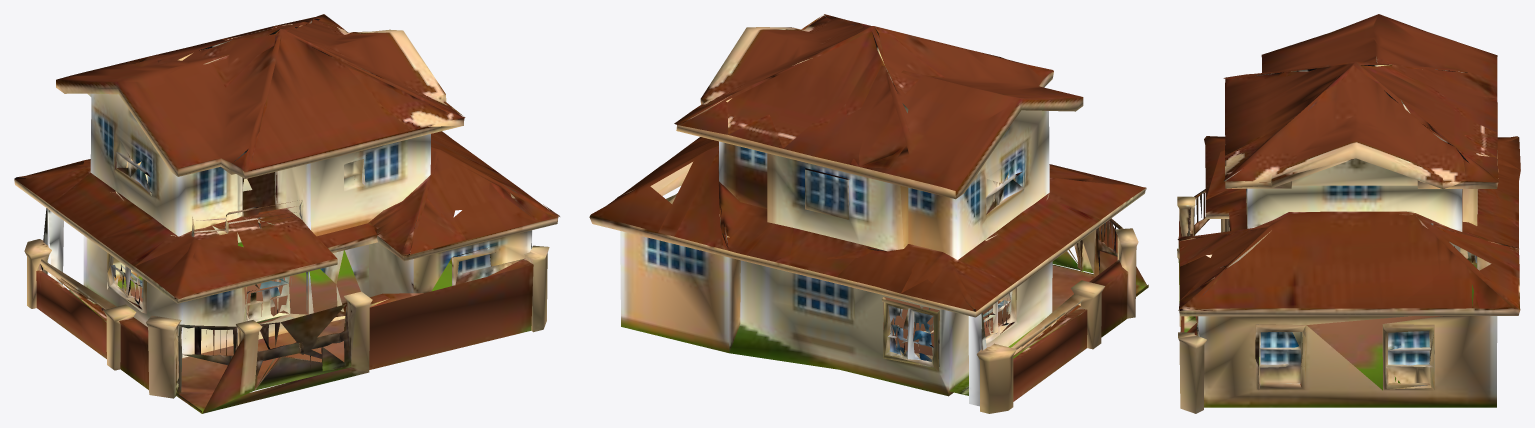
The model's file is house.glb.
The picture shows the model from 3 angles, left to right: view 1: azimuth 30°, elevation 25°; view 2: azimuth 150°, elevation 25°; view 3: azimuth 270°, elevation 25°; orthographic projection. The views are drawn at different scales.
Visible parts, largest first — view 1: house; view 2: house; view 3: house.
Part boxes in pixels (x1=…): house: x1=14, y1=14, x2=559, y2=413; house: x1=589, y1=14, x2=1148, y2=413; house: x1=1177, y1=14, x2=1520, y2=413.
Size of the model in its own units: 11 by 7.6 by 8.88.
1 material, 1 textured.
